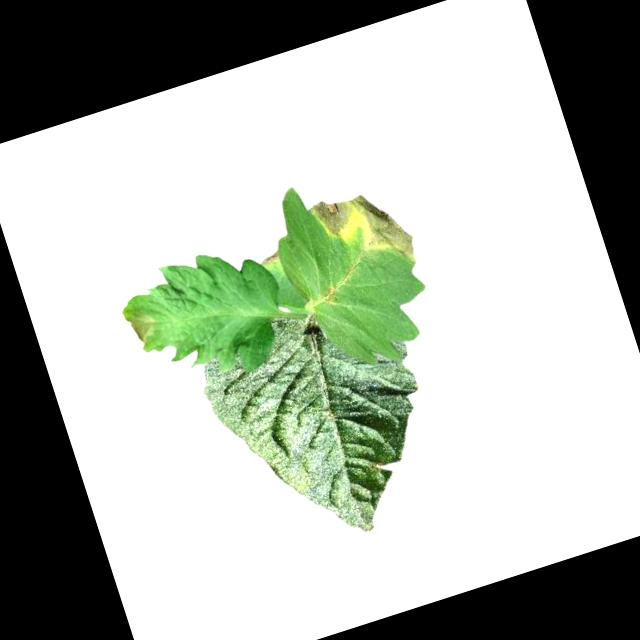Late_blight: (307, 176, 421, 290), (125, 307, 162, 352), (261, 250, 283, 266)
